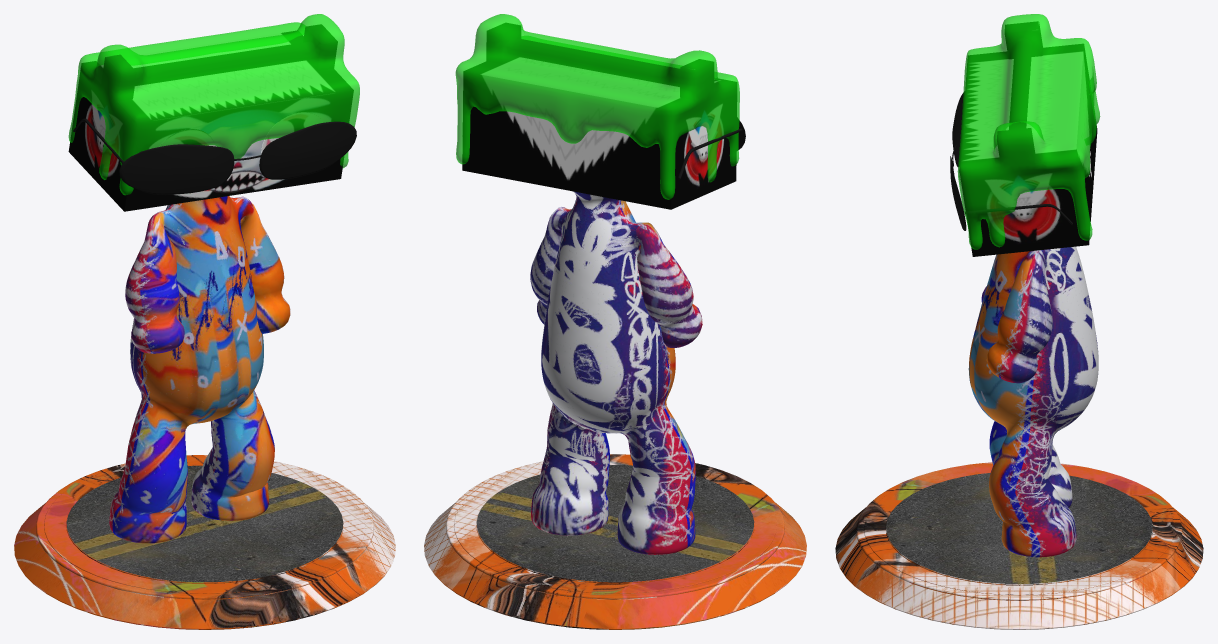
3 renders of one model, left to right at view 1: azimuth 30°, elevation 25°; view 2: azimuth 150°, elevation 25°; view 3: azimuth 270°, elevation 25°, orthographic. The views are drawn at different scales.
Parts seen in each view (by area): view 1: BBody; view 2: BBody; view 3: BBody.
Boxes of the visible parts, x1,y1,x2,y2 form: BBody: [14, 14, 395, 629]; BBody: [424, 14, 806, 629]; BBody: [835, 14, 1203, 629].
Size of the model in its own units: 1.45 by 2.16 by 1.45.
Materials: 6 (4 with a texture image).
